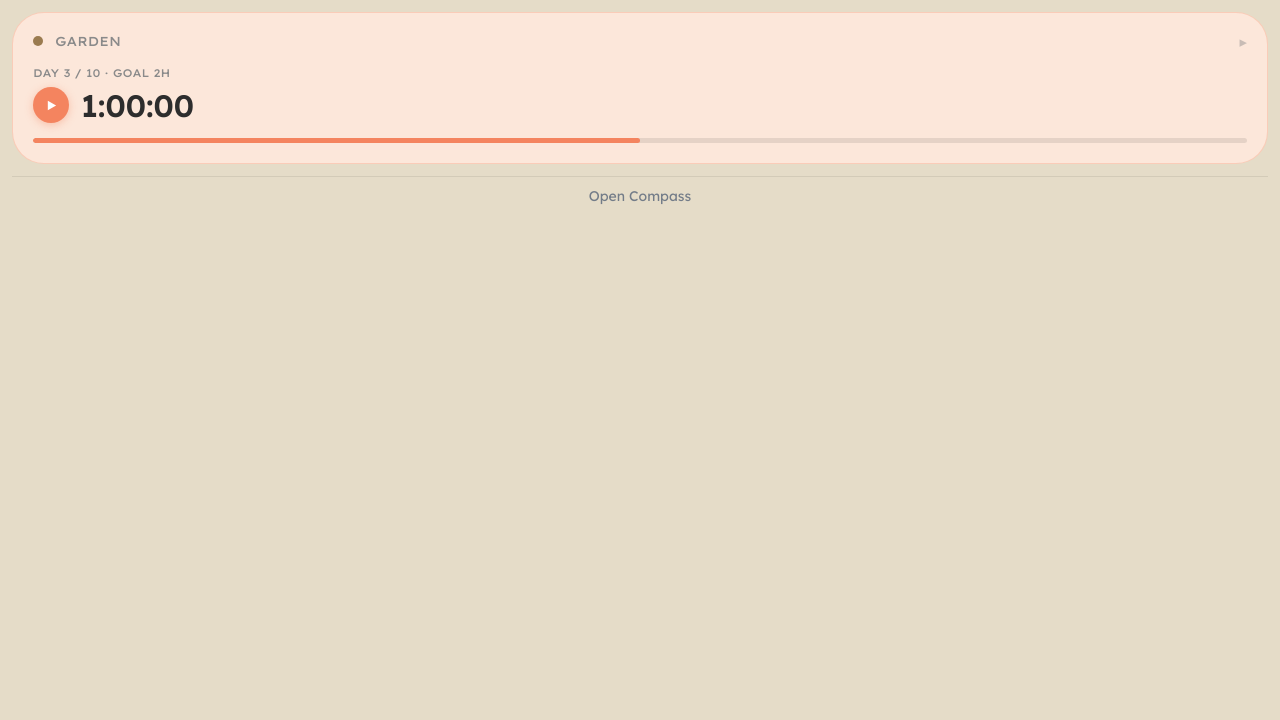
Test: the companion's summary › a ticked task is saved through the seam, stays in its place struck through, and the dashboard is told
Click the button "▸".
click(1243, 41)  # box [1240,34,1247,49]
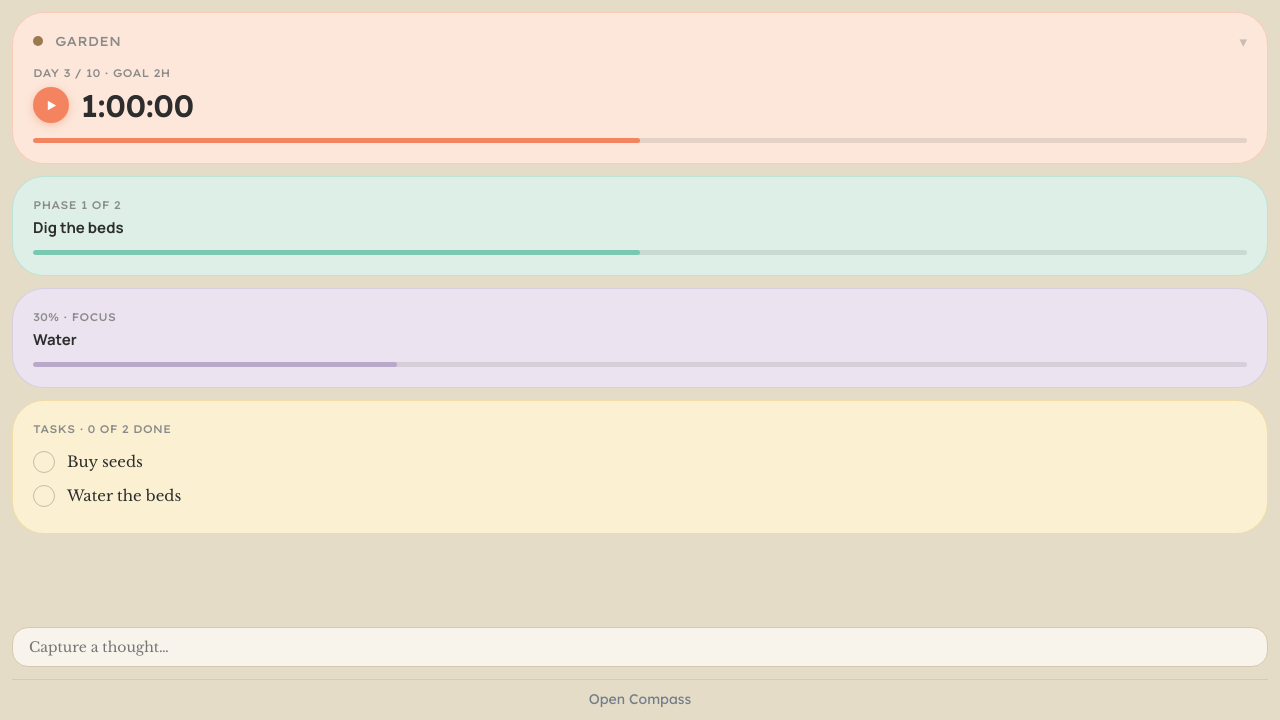
Click the button with class "task-check" next to "Buy seeds".
click(44, 462)  # box [33,451,55,473]
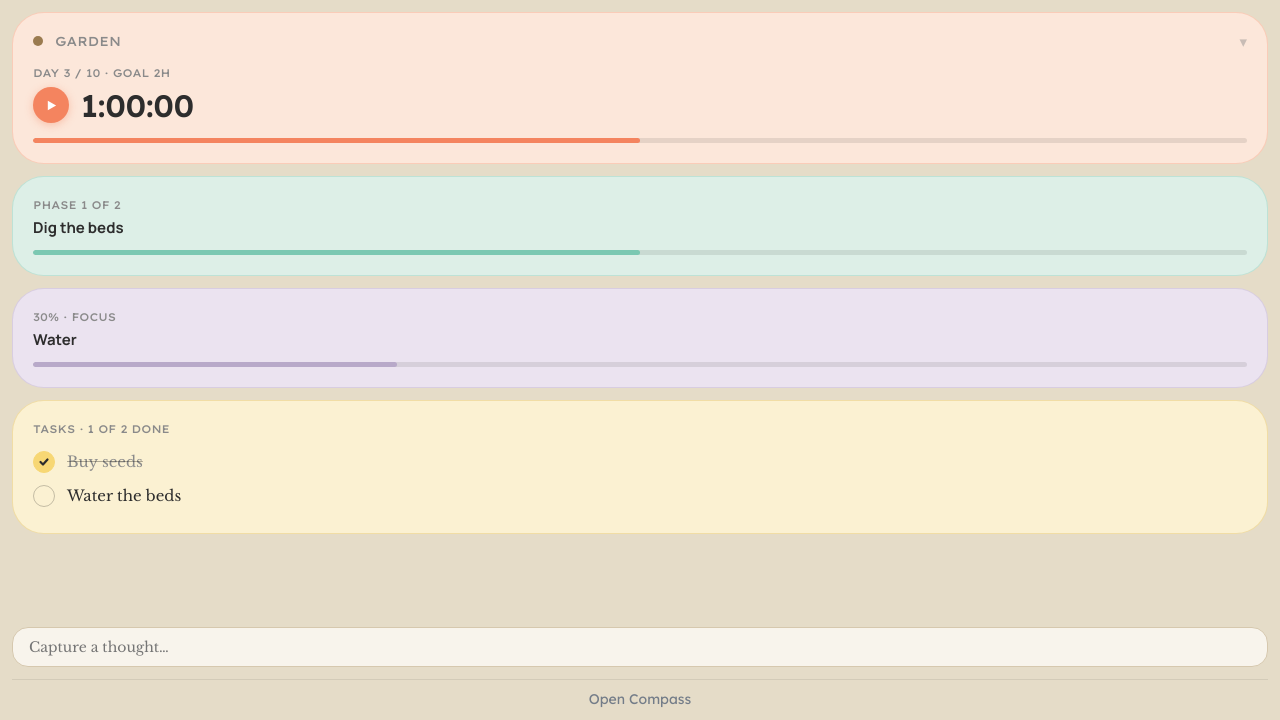
Expected: the element with class "companion" shows "Tasks · 1 of 2 done", [33,422,170,436]
